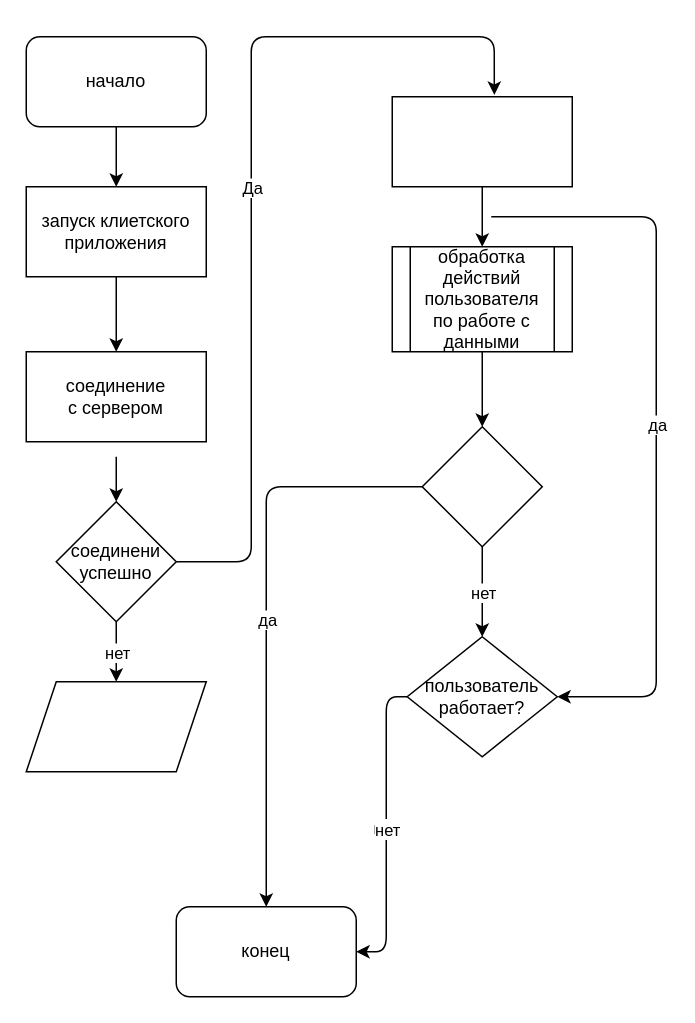
This 695x1023 diagram has some shape labels left out. Each missing label, with the centre of its shape:
"закрытие окна" belongs at pixel 481 486.
"сообщение об ошибке" belongs at pixel 115 726.
"считывание первичных данных" belongs at pixel 481 141.
